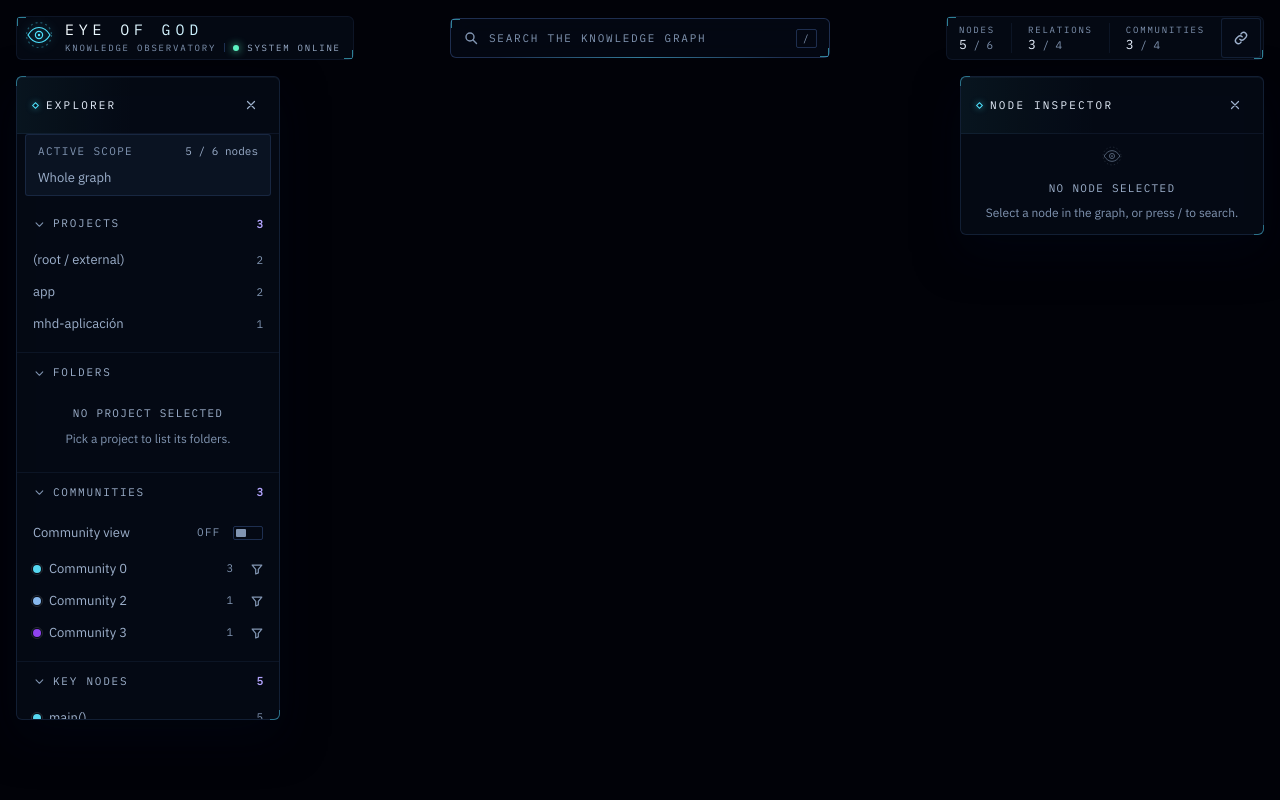
Test case: explorer → store → graph › a key node selects and focuses: it inspects, it does not filter
Click the button with aria-label "Inspect main()".
click(148, 718)  # box [25, 702, 271, 734]
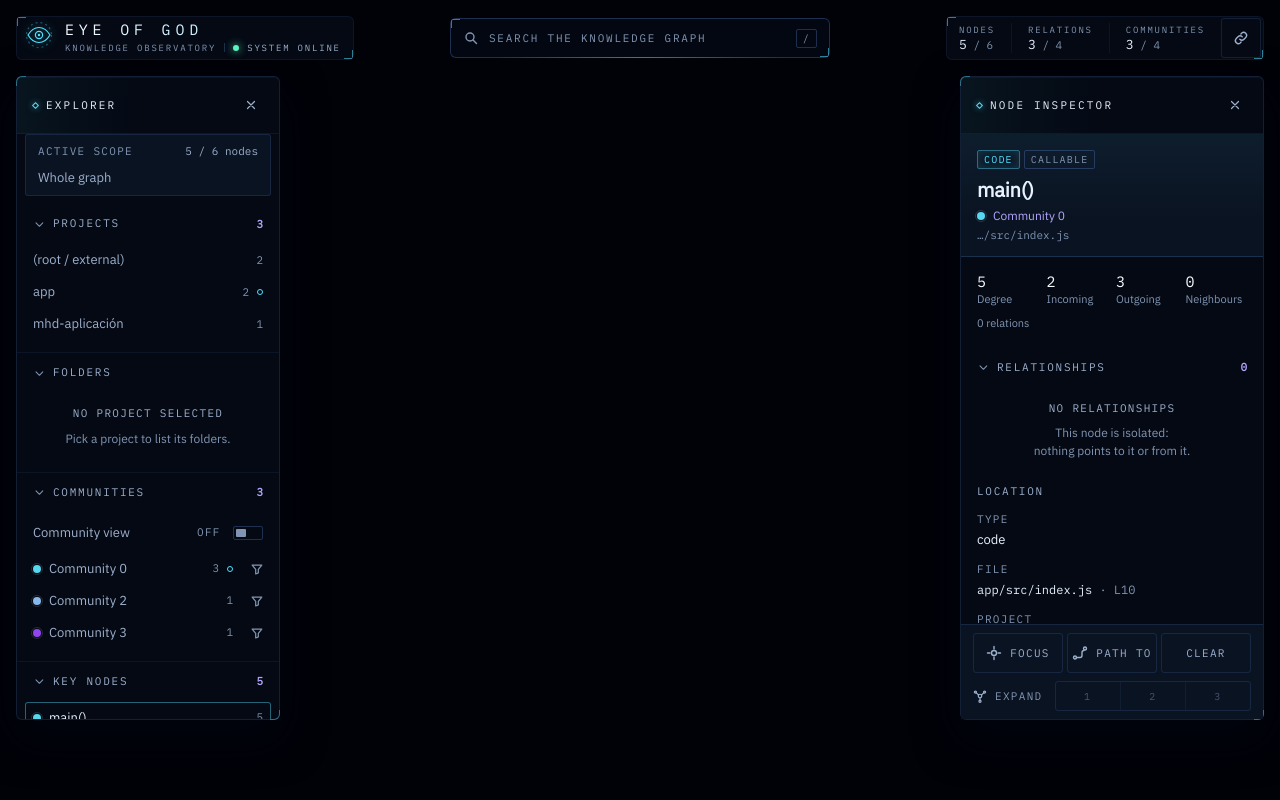
Expected: the text "main()" below "Callable" is shown, [977, 176, 1034, 203]
